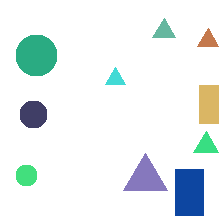circle: (16, 35, 56, 75), (20, 101, 46, 127), (16, 165, 36, 185)
rectangle: (175, 169, 203, 215), (199, 85, 218, 123)
triangle: (123, 153, 167, 190), (193, 131, 218, 152), (152, 18, 175, 37), (197, 28, 218, 46), (105, 67, 125, 84)
